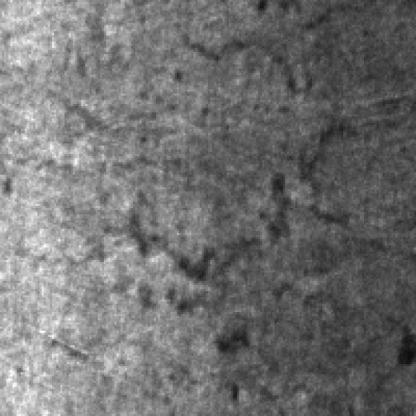crazing: (62, 27, 379, 277), (178, 208, 405, 408), (270, 2, 400, 144)
